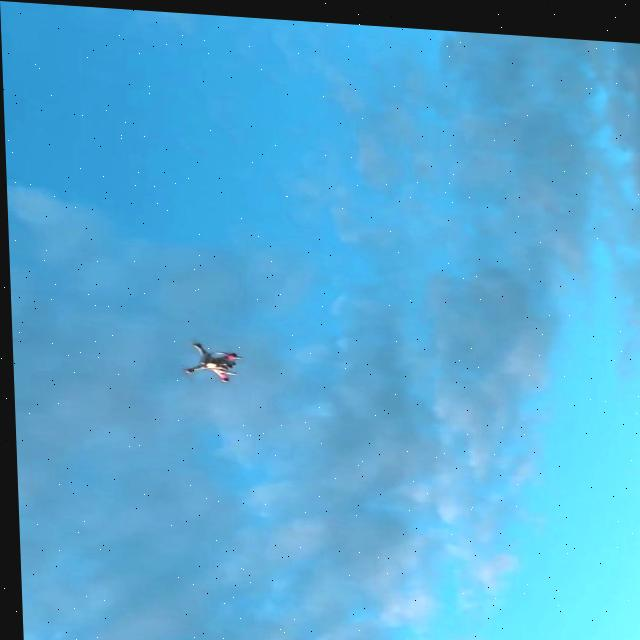drone: (174, 335, 238, 381)
